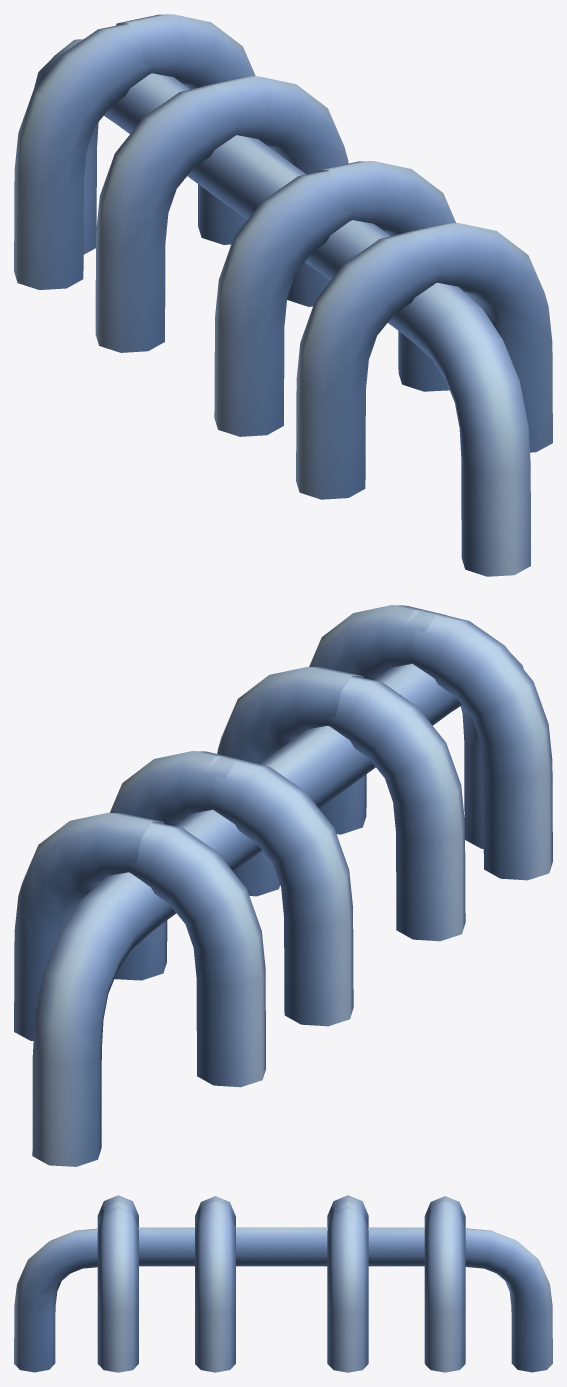
Rendered from Lock_2.fbx.
3 renders of one model, top to bottom at view 1: azimuth 30°, elevation 25°; view 2: azimuth 150°, elevation 25°; view 3: azimuth 270°, elevation 25°, orthographic. The views are drawn at different scales.
Visible parts, largest first — view 1: lock_2; view 2: lock_2; view 3: lock_2.
Part boxes in pixels (<box>): lock_2: <box>14,14,552,576</box>; lock_2: <box>14,605,552,1166</box>; lock_2: <box>14,1195,552,1372</box>.
Bounding box in the file's own units: 0.682 × 0.7279 × 2.22.
